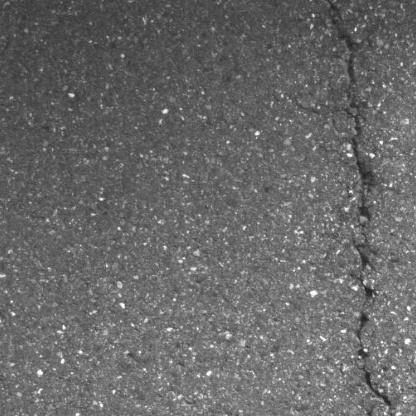Cracks: (323, 0, 407, 416)
